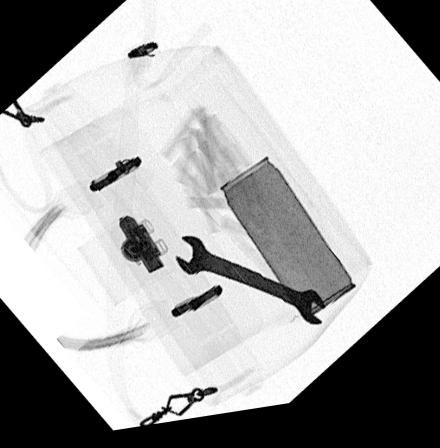Wrench: (173, 242, 325, 336)
